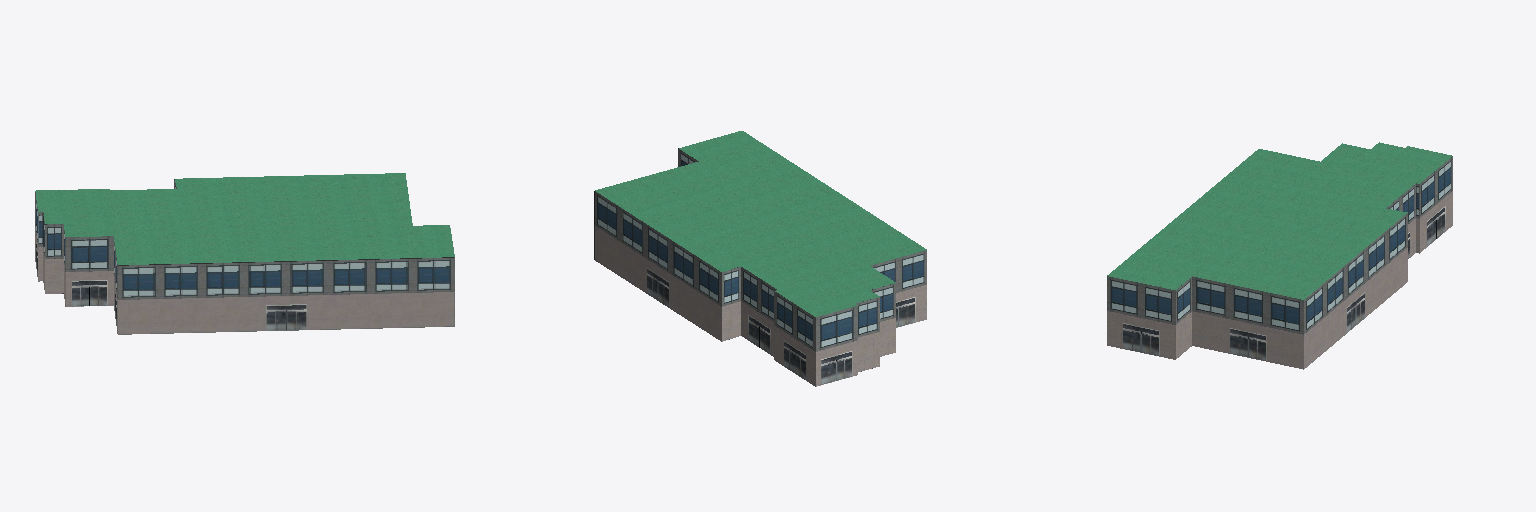
3 views of the same model, side by side, from view 1: azimuth 30°, elevation 25°; view 2: azimuth 150°, elevation 25°; view 3: azimuth 270°, elevation 25° (orthographic).
Parts seen in each view (by area): view 1: BuildingMaster_[number redacted]_0, BuildingMaster_[number redacted]_1; view 2: BuildingMaster_[number redacted]_1, BuildingMaster_[number redacted]_0; view 3: BuildingMaster_[number redacted]_1, BuildingMaster_[number redacted]_0.
Boxes of the visible parts, x1=… form: BuildingMaster_[number redacted]_0: x1=35, y1=179, x2=454, y2=334; BuildingMaster_[number redacted]_1: x1=35, y1=173, x2=454, y2=264; BuildingMaster_[number redacted]_1: x1=595, y1=131, x2=926, y2=316; BuildingMaster_[number redacted]_0: x1=594, y1=148, x2=926, y2=386; BuildingMaster_[number redacted]_1: x1=1107, y1=142, x2=1451, y2=299; BuildingMaster_[number redacted]_0: x1=1107, y1=156, x2=1452, y2=369.
Bounding box in the file's own units: 34.01 × 7 × 31.58.
2 materials, 2 textured.